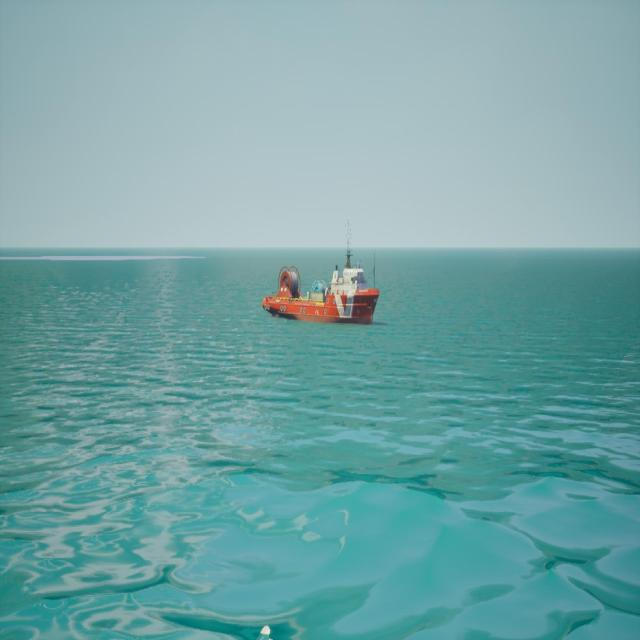tug boat: (264, 221, 381, 327)
